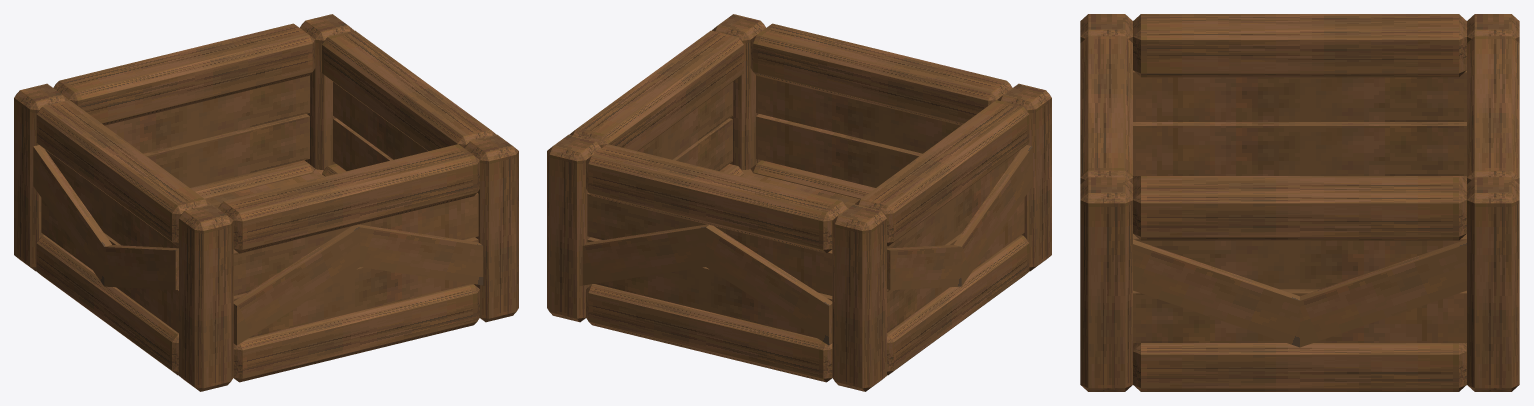
The model's file is openCrate_small_low.glb.
3 views of the same model, side by side, from view 1: azimuth 30°, elevation 25°; view 2: azimuth 150°, elevation 25°; view 3: azimuth 270°, elevation 25° (orthographic). The views are drawn at different scales.
Parts seen in each view (by area): view 1: openCrate_small_low; view 2: openCrate_small_low; view 3: openCrate_small_low.
Part boxes in pixels (x1=…): openCrate_small_low: x1=14, y1=14, x2=518, y2=391; openCrate_small_low: x1=547, y1=14, x2=1051, y2=391; openCrate_small_low: x1=1080, y1=14, x2=1519, y2=391.
Size of the model in its own units: 1 by 0.5 by 1.
1 material, 1 textured.
